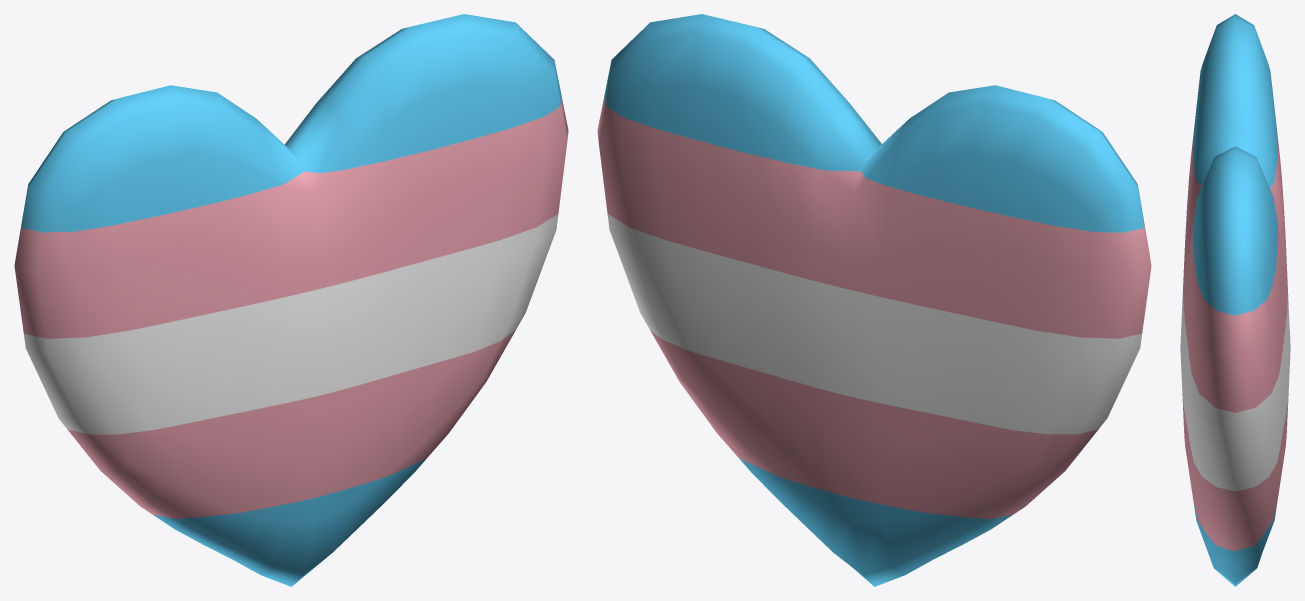
File: heart trans.fbx
3 renders of one model, left to right at view 1: azimuth 30°, elevation 25°; view 2: azimuth 150°, elevation 25°; view 3: azimuth 270°, elevation 25°, orthographic. The views are drawn at different scales.
Parts seen in each view (by area): view 1: Cube; view 2: Cube; view 3: Cube.
Boxes of the visible parts, x1,y1,x2,y2 form: Cube: (14, 14, 568, 586); Cube: (597, 14, 1151, 586); Cube: (1180, 14, 1290, 586).
Bounding box in the file's own units: 26.47 × 24.26 × 4.93.
1 material, 1 textured.
